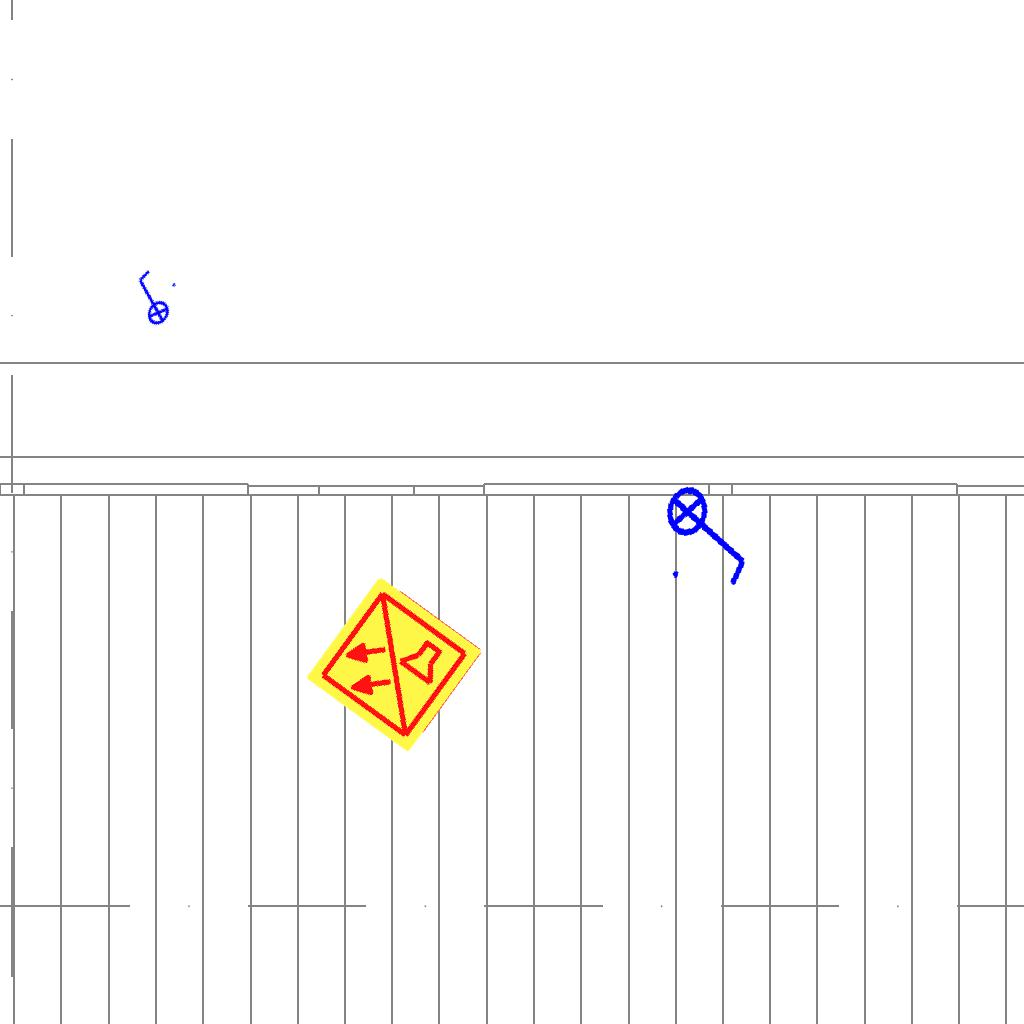Ausschalter_beleuchtet: (653, 469, 767, 597), (116, 262, 186, 336)
OKW_Multisensormelder_(Kombination_optischer_Rauch-Kahlenmonoxid_Waerme-Melder): (301, 571, 487, 757)
